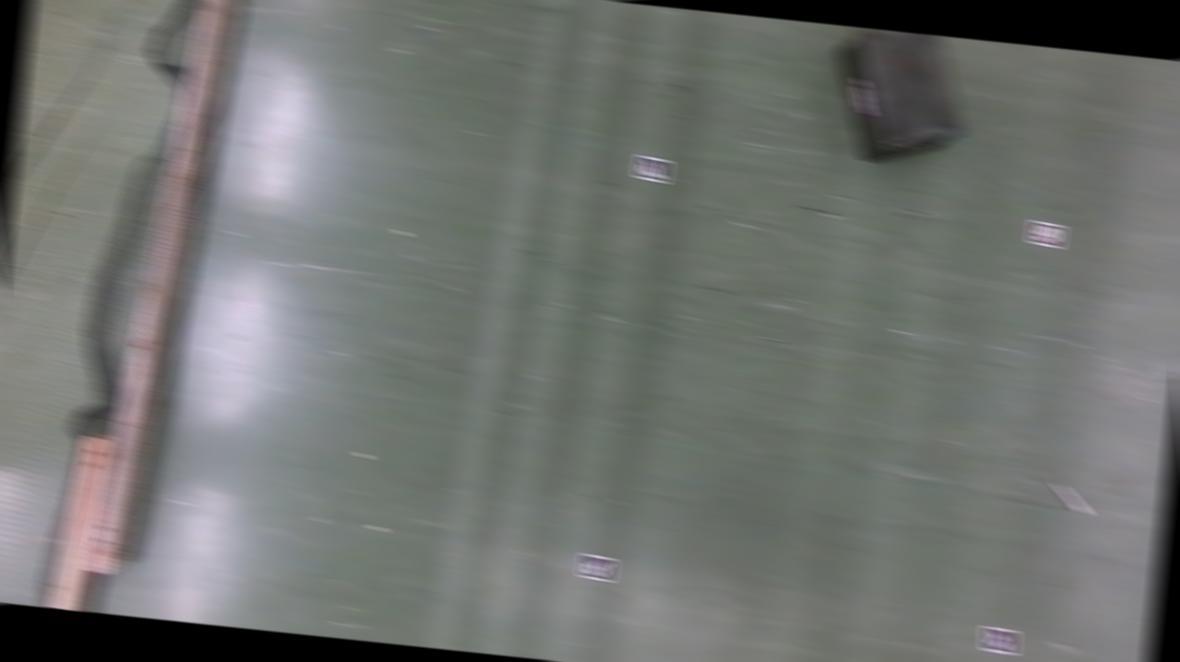probes: (1049, 478, 1093, 514)
rako: (824, 24, 976, 173)
